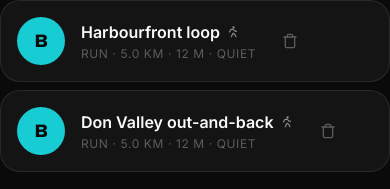
Test: SavedRoutesSection · deleting › drops the row on success without refetching the list
The width and height of the screenshot is (390, 189).
Click the button named "Delete Harbourfront loop". click: (290, 41)
box: x1=272 y1=23 x2=308 y2=59
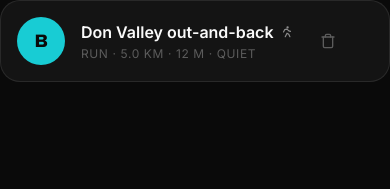
expect the button named "Delete Don Valley out-and-back" is shown: met, box x1=310 y1=23 x2=346 y2=59
expect the link "Harbourfront loop" is gone: met
